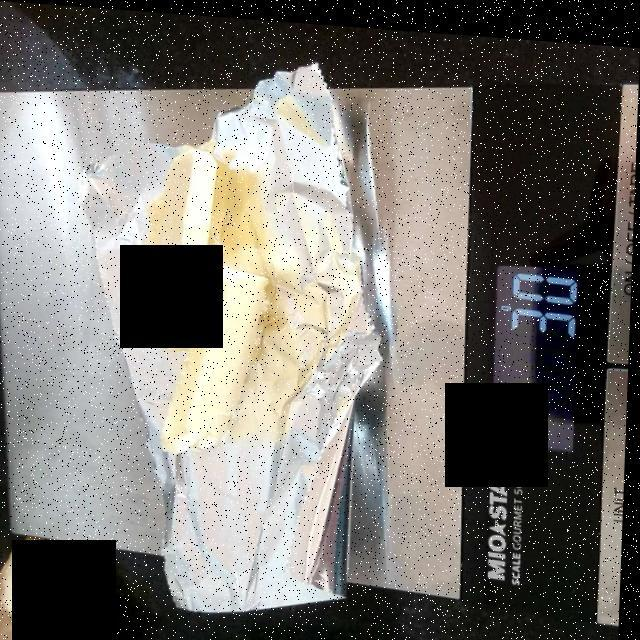butter: (127, 141, 277, 440)
